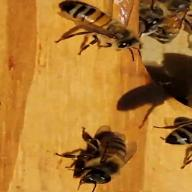Bee: (42, 3, 162, 51), (70, 123, 142, 187)
